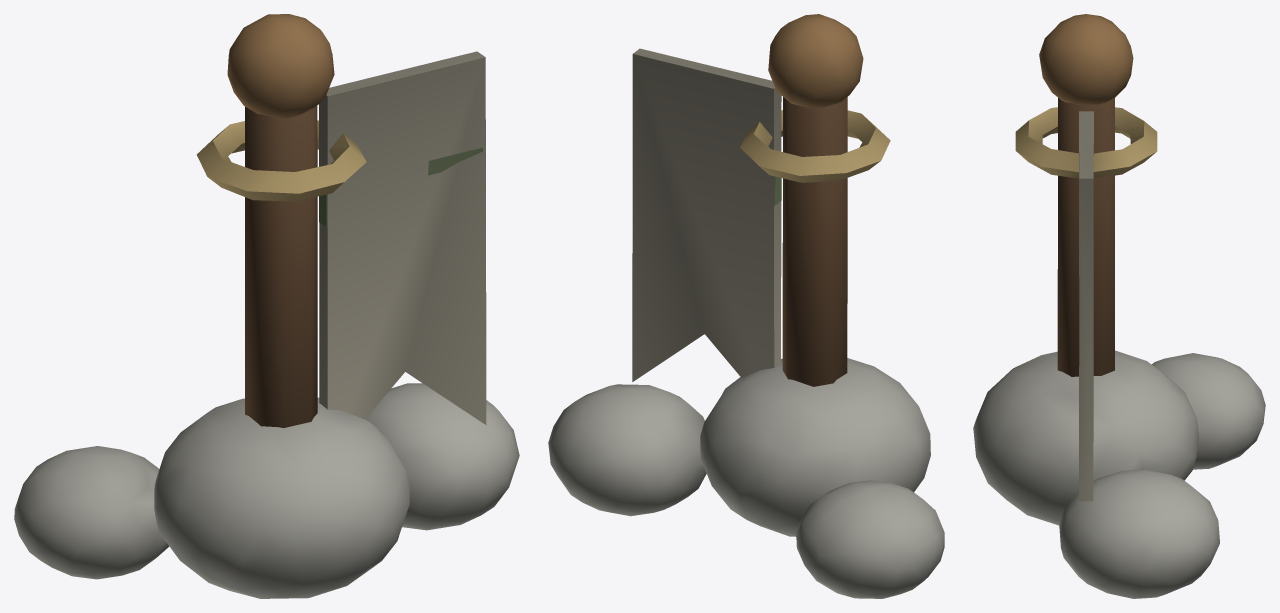
Rendered from kite_pennant_b_lod1.glb.
The picture shows the model from 3 angles, left to right: view 1: azimuth 30°, elevation 25°; view 2: azimuth 150°, elevation 25°; view 3: azimuth 270°, elevation 25°; orthographic projection. The views are drawn at different scales.
Parts seen in each view (by area): view 1: Surface.001; view 2: Surface.001; view 3: Surface.001.
Part boxes in pixels (x1=…): Surface.001: x1=14, y1=14, x2=519, y2=598; Surface.001: x1=548, y1=14, x2=944, y2=598; Surface.001: x1=973, y1=14, x2=1265, y2=598.
Size of the model in its own units: 1.28 by 1.54 by 0.8223.
